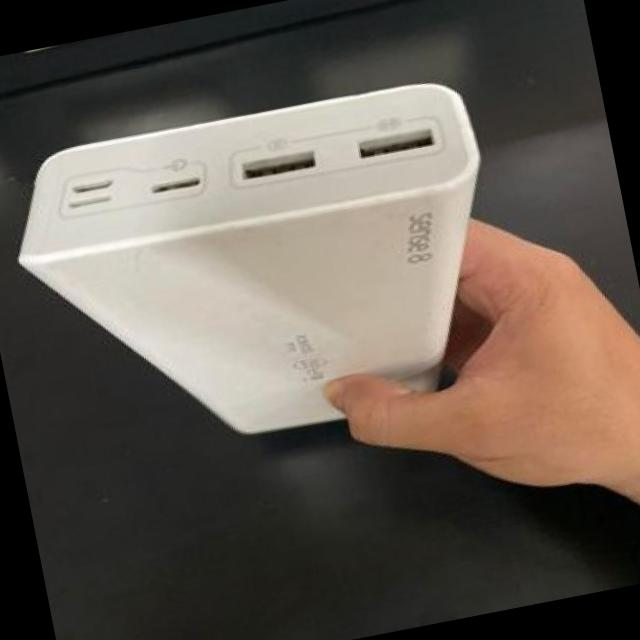power_bank: (0, 43, 540, 486)
